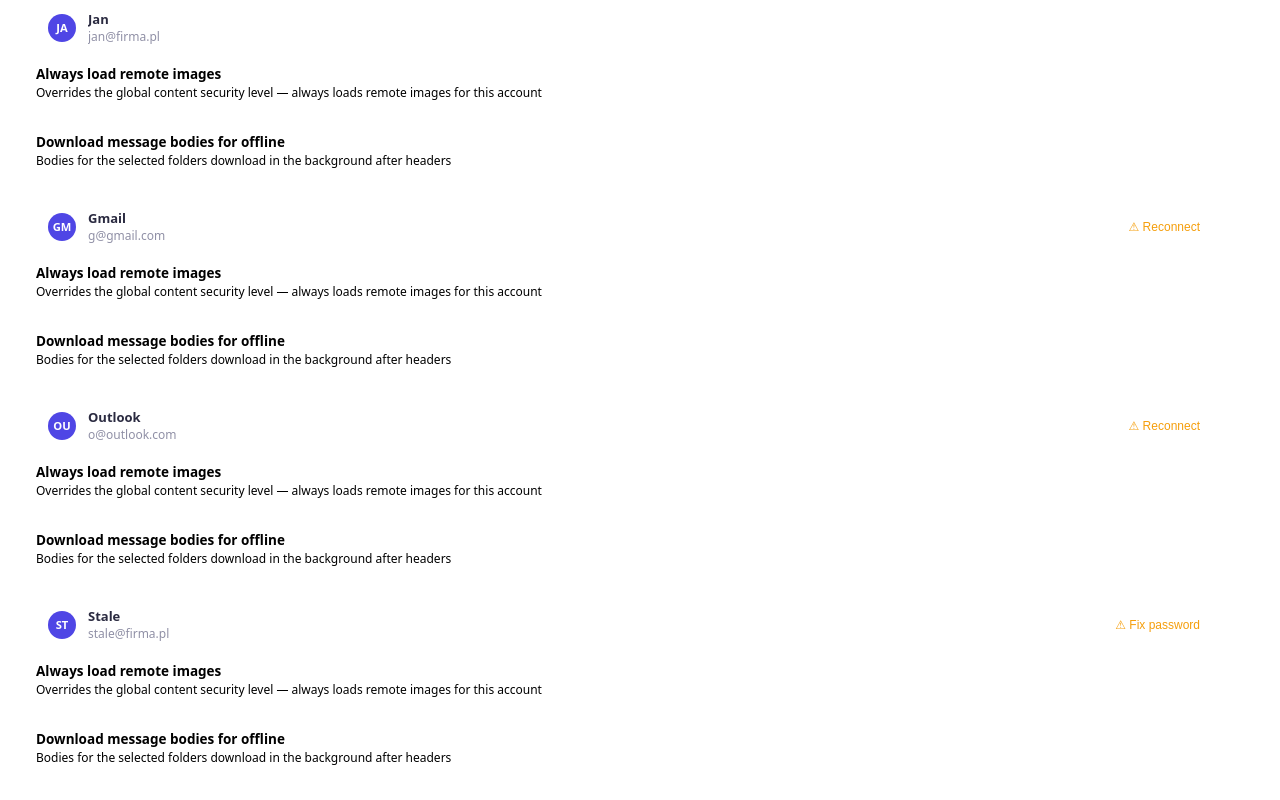
Test case: AccountsSection › surfaces a failed reauth next to the account that failed
Click the button with aria-label "Reconnect Outlook": click(1164, 426) [1124,414,1204,436]
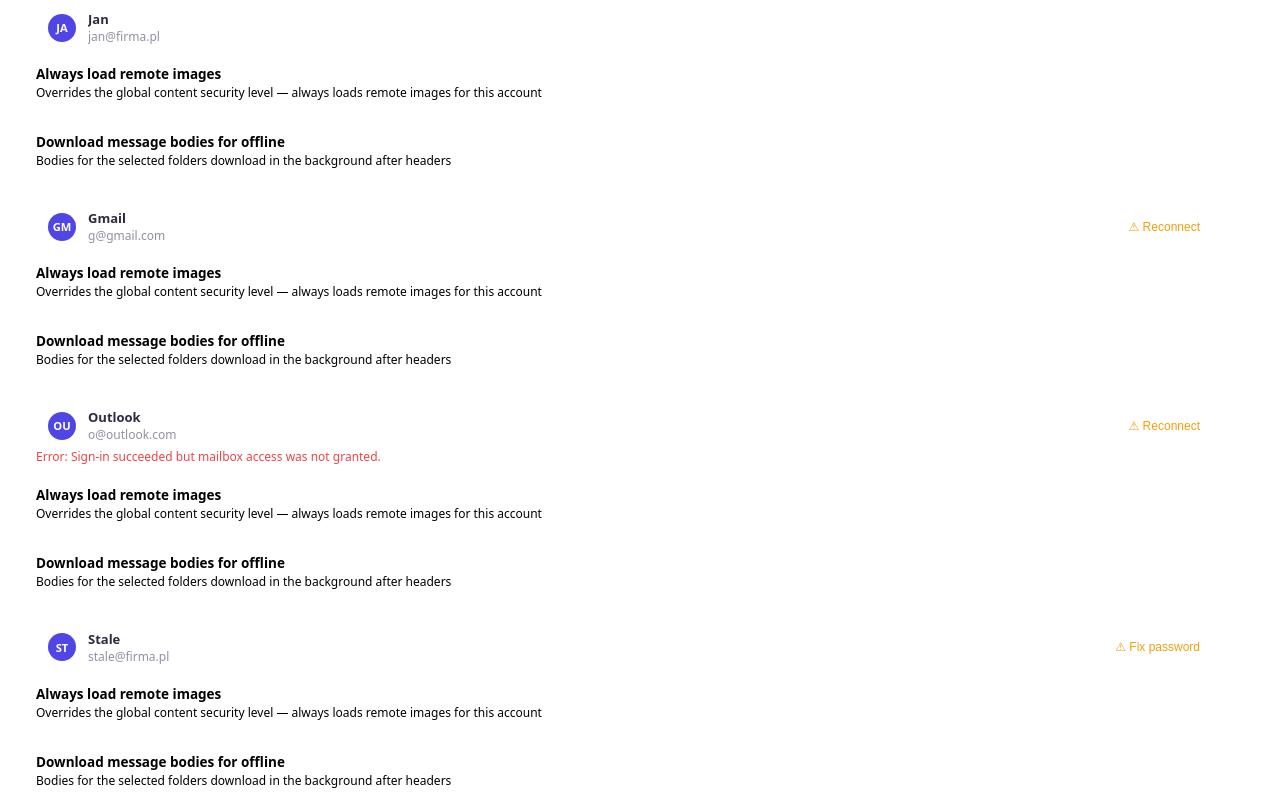
Expected: the number of messages is 1, [36,448,381,465]
Expected: the message shows "mailbox access was not granted", [36,448,381,465]
